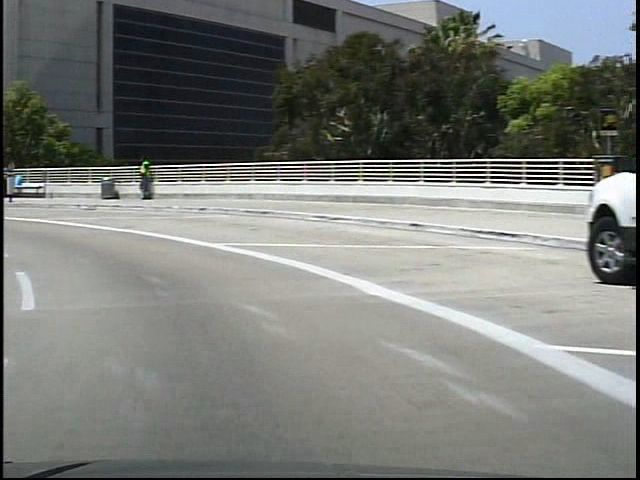person: (130, 153, 150, 203)
